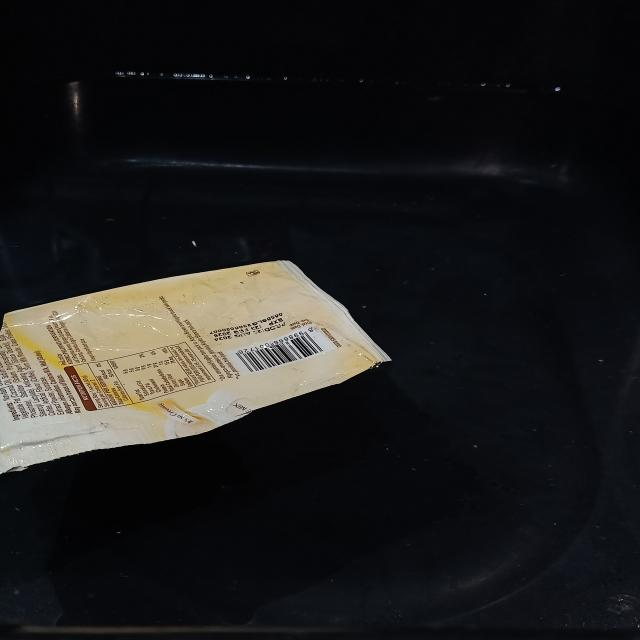Plastic Wrapper: (0, 261, 390, 473)
